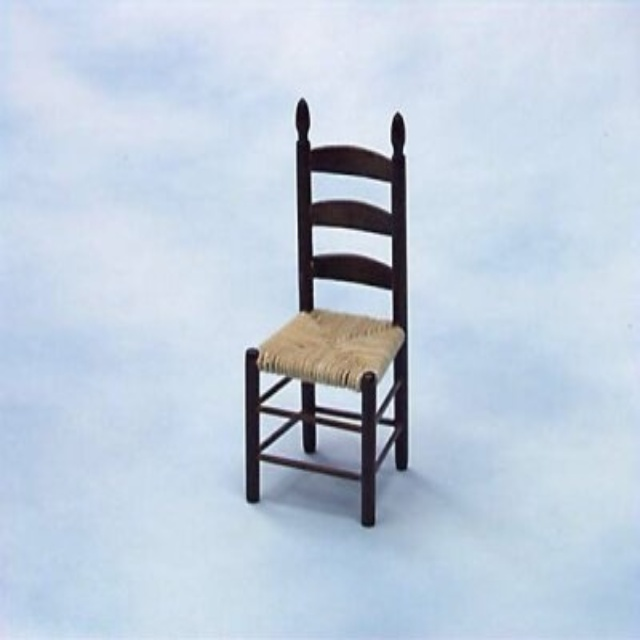obstacle: (245, 98, 406, 525)
